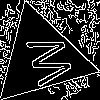W: (16, 32, 74, 91)
